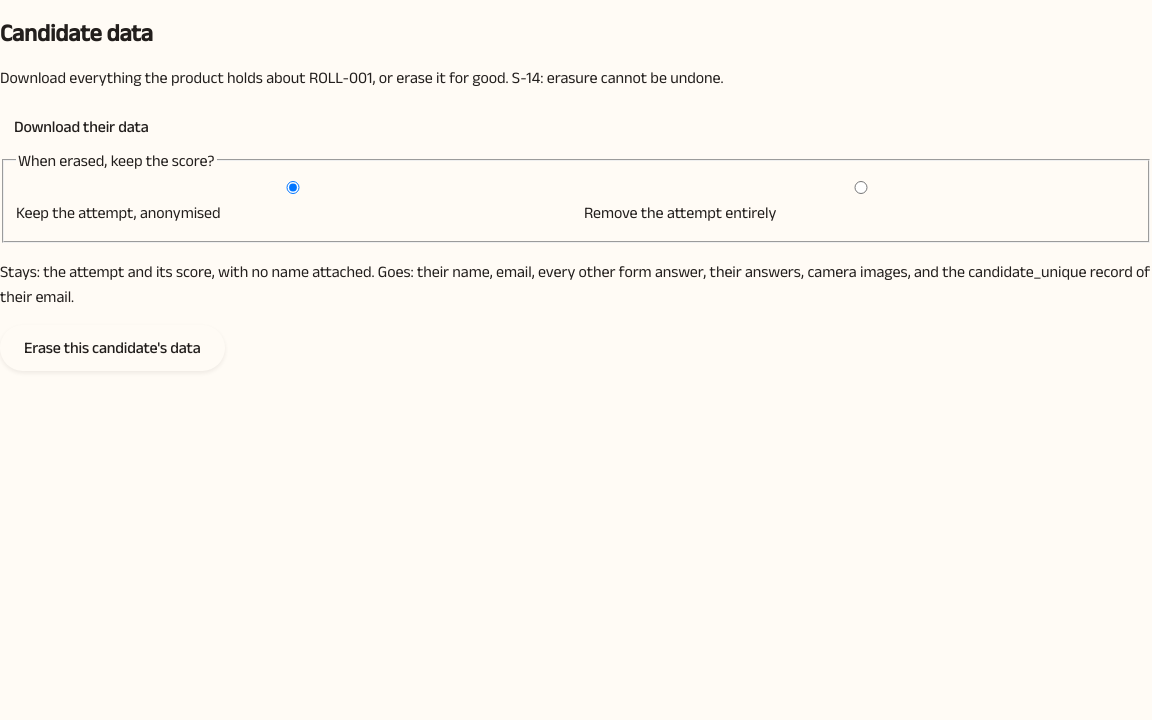
Scenario: CandidateDataPanel (S-14) › keeps the erase button disabled until ERASE is typed exactly
The width and height of the screenshot is (1152, 720).
Click the button "Erase this candidate's data": (112, 348) [0, 325, 224, 371]
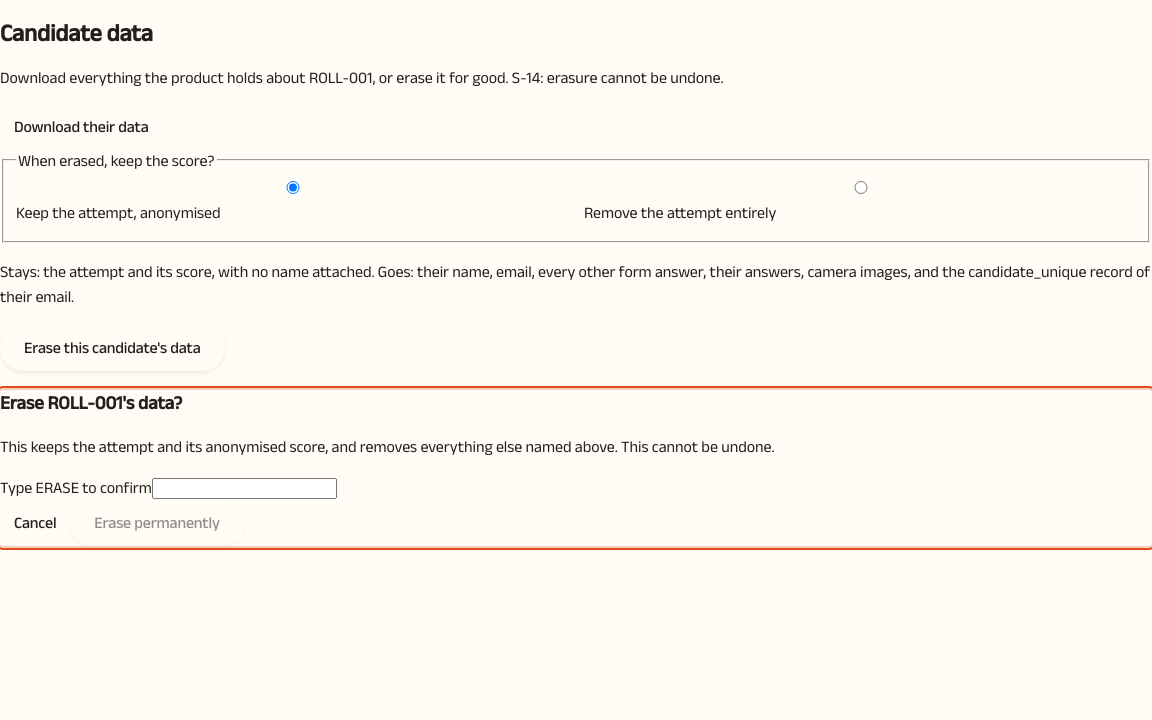
expect the button "Erase permanently" is disabled: met, box [70, 500, 244, 546]
In the field labelled "Type ERASE to confirm": (244, 488) [152, 478, 337, 499], type "erase"
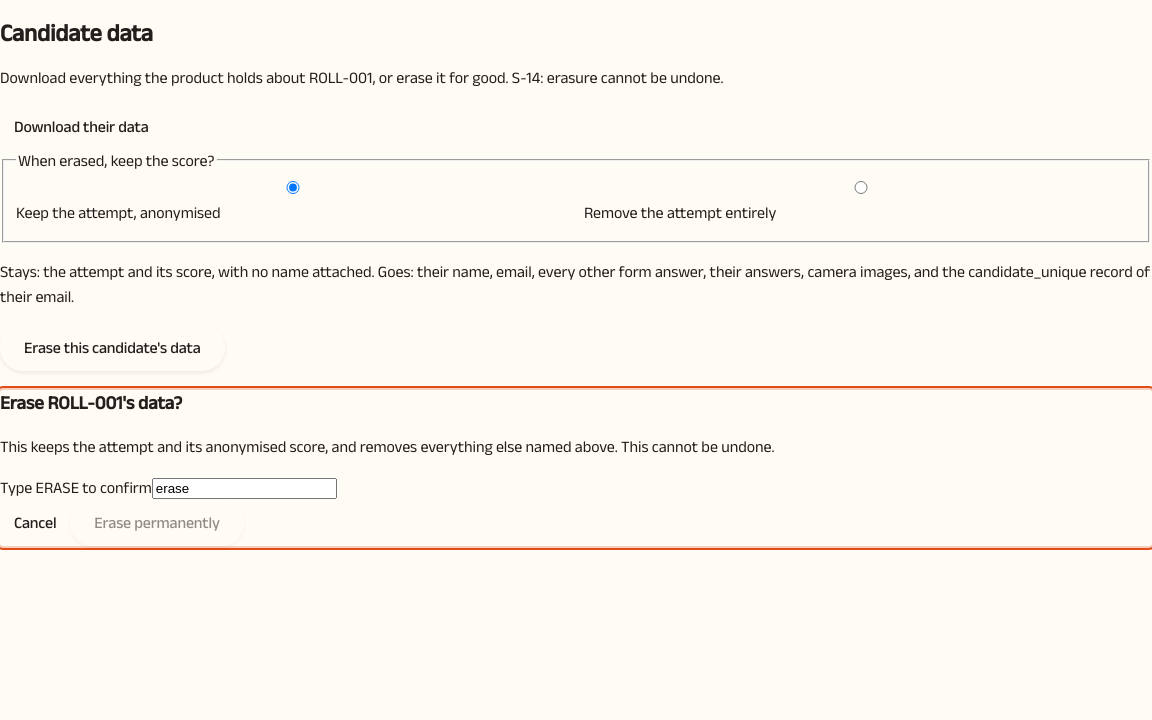
expect the button "Erase permanently" is disabled: met, box [70, 500, 244, 546]
Replace the text in the field labelled "Type ERASE to confirm" with "ERASE": (244, 488) [152, 478, 337, 499]
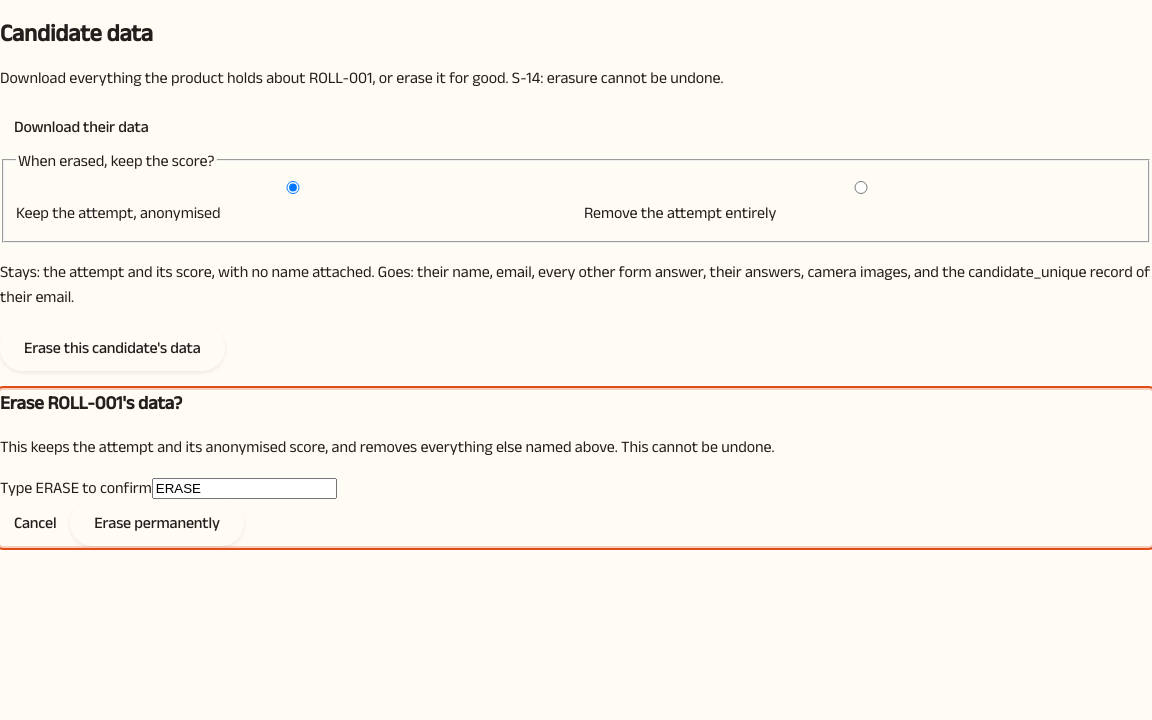
expect the button "Erase permanently" is enabled: met, box [70, 500, 244, 546]
